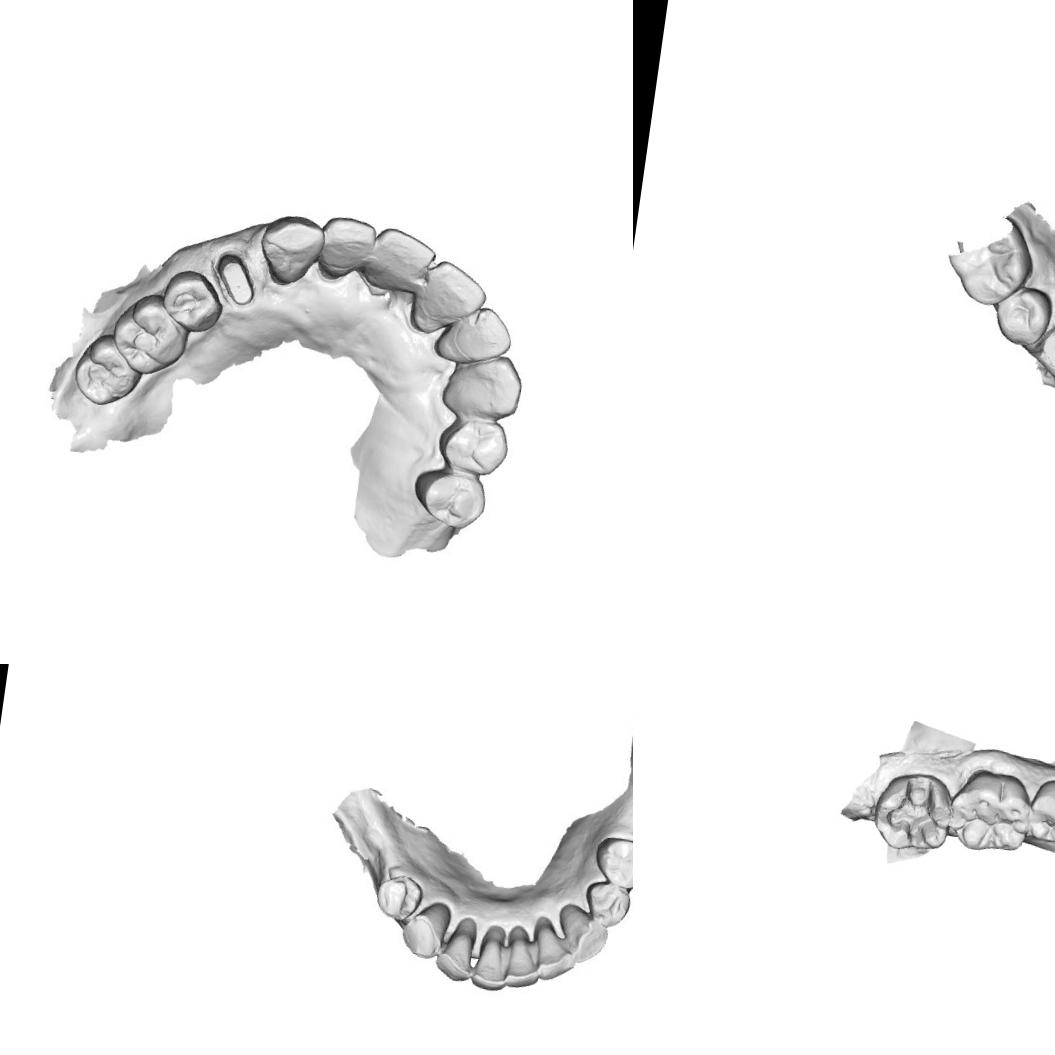canine: (434, 345, 524, 427), (256, 211, 328, 290), (553, 900, 611, 968), (395, 900, 447, 962)
crown: (212, 254, 258, 304)
implant: (1039, 327, 1055, 375)
incisor: (414, 253, 492, 339), (361, 222, 441, 304), (432, 300, 518, 370), (316, 214, 376, 287), (531, 920, 581, 988), (465, 924, 513, 994), (430, 920, 478, 984), (500, 926, 544, 994)
inlay: (880, 770, 947, 852)
molar: (942, 208, 1041, 314), (944, 766, 1035, 857), (112, 288, 190, 378), (68, 328, 146, 410)
premolar: (407, 466, 490, 537), (158, 267, 224, 336), (434, 412, 507, 474), (992, 284, 1055, 350), (368, 871, 426, 924), (588, 828, 633, 895), (580, 876, 633, 931), (1025, 776, 1055, 846)
